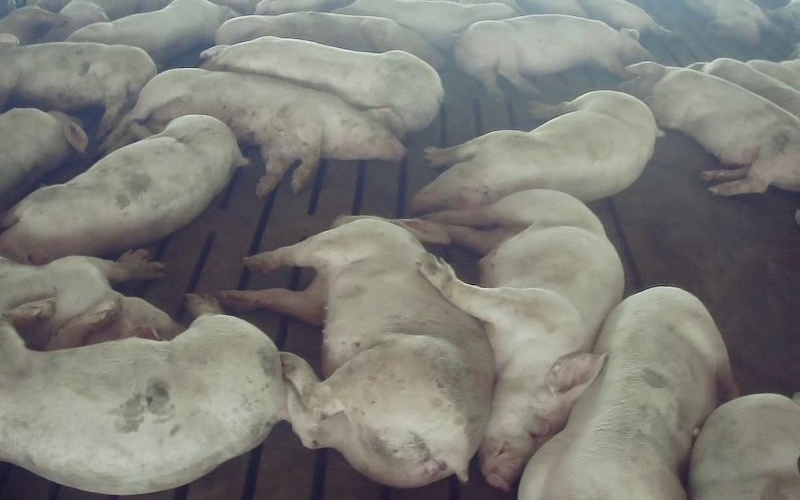pig: (220, 216, 493, 486), (420, 190, 623, 488), (519, 287, 734, 499), (104, 68, 405, 196), (0, 115, 246, 263), (413, 91, 658, 211), (621, 61, 799, 195), (201, 36, 443, 131), (0, 251, 183, 348), (455, 14, 651, 93), (0, 42, 156, 138), (216, 11, 442, 68), (689, 394, 799, 499), (67, 0, 234, 64), (334, 0, 514, 51)
